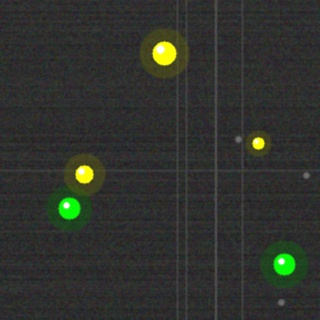green_normal: (56, 195, 82, 221), (271, 251, 297, 277)
yellow_warning: (150, 39, 178, 67), (73, 163, 95, 185), (250, 135, 266, 151)
